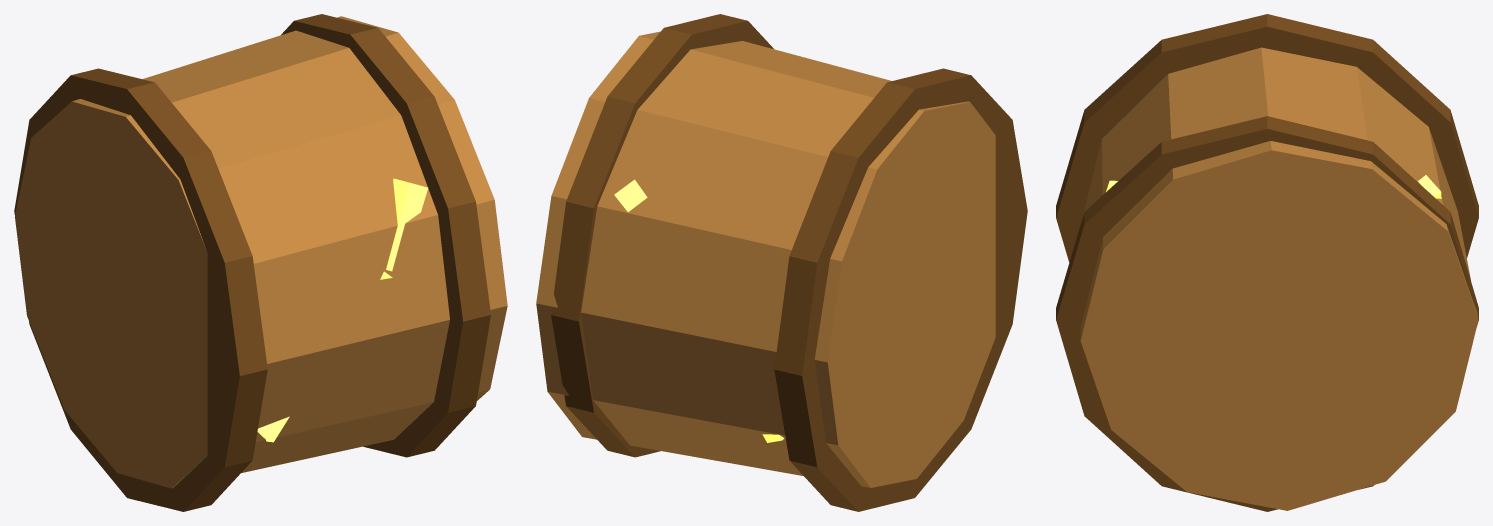
The model's file is storm_titan_bracer_r.glb.
3 views of the same model, side by side, from view 1: azimuth 30°, elevation 25°; view 2: azimuth 150°, elevation 25°; view 3: azimuth 270°, elevation 25° (orthographic). The views are drawn at different scales.
Parts seen in each view (by area): view 1: storm_titan_bracer_r; view 2: storm_titan_bracer_r; view 3: storm_titan_bracer_r.
Part boxes in pixels (x1,y1,x2,y2): storm_titan_bracer_r: [14, 14, 507, 511]; storm_titan_bracer_r: [536, 14, 1027, 511]; storm_titan_bracer_r: [1056, 14, 1478, 511].
Size of the model in its own units: 0.2628 by 0.35 by 0.35.
